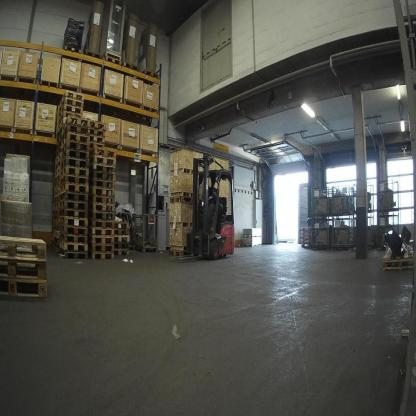forklift: (169, 151, 240, 271)
pallet: (2, 260, 52, 285), (0, 236, 43, 261), (2, 283, 52, 303), (383, 256, 412, 274), (58, 91, 86, 109), (57, 106, 85, 123), (57, 99, 85, 115), (62, 133, 89, 149), (59, 241, 88, 255), (61, 141, 90, 155), (87, 144, 116, 158), (62, 118, 90, 132), (60, 150, 87, 164), (57, 113, 79, 130), (61, 175, 89, 187), (63, 126, 91, 138), (60, 159, 89, 170), (139, 69, 161, 83), (60, 192, 88, 203), (88, 162, 116, 173), (61, 44, 81, 59), (60, 210, 89, 220), (121, 62, 141, 76), (59, 226, 87, 236), (59, 217, 87, 227), (88, 227, 113, 238), (88, 243, 115, 253), (58, 250, 87, 259), (87, 194, 116, 203), (90, 169, 116, 179), (88, 234, 114, 244), (86, 47, 103, 62), (169, 192, 192, 203), (88, 211, 116, 220), (90, 179, 117, 188), (88, 132, 106, 145), (59, 203, 88, 211), (59, 167, 88, 175), (106, 55, 122, 69), (59, 234, 87, 242), (60, 185, 88, 193), (88, 187, 116, 195), (88, 203, 116, 211), (88, 219, 113, 227), (88, 120, 107, 130), (88, 128, 107, 138), (114, 249, 133, 259), (169, 248, 190, 257), (109, 221, 130, 229), (89, 156, 116, 162), (88, 253, 114, 259), (112, 229, 130, 236), (299, 240, 311, 250), (53, 152, 63, 164), (114, 242, 130, 249), (87, 142, 105, 148), (113, 236, 129, 242), (55, 145, 63, 156), (54, 161, 62, 172), (53, 168, 61, 179), (299, 225, 311, 232), (53, 180, 61, 190), (53, 195, 61, 205), (52, 188, 60, 197), (58, 129, 65, 139), (58, 136, 64, 147), (53, 203, 61, 210), (298, 236, 310, 240), (53, 210, 59, 218), (51, 235, 57, 243), (54, 230, 59, 238), (299, 233, 311, 236), (53, 217, 59, 223), (53, 223, 59, 229)
stillage: (114, 196, 136, 255), (135, 211, 161, 257), (352, 211, 376, 253), (331, 214, 356, 254), (352, 181, 379, 215), (375, 178, 400, 214), (310, 212, 331, 254), (309, 181, 330, 221), (330, 183, 355, 216), (375, 213, 399, 245)
